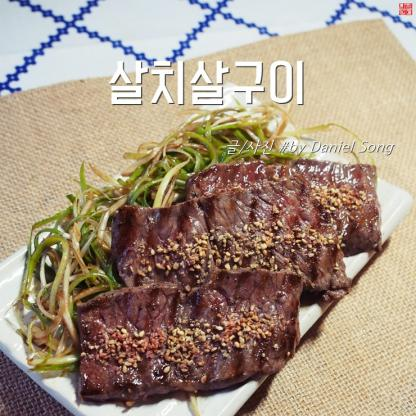Carne: (72, 270, 304, 398), (116, 208, 348, 294), (183, 160, 379, 252)
